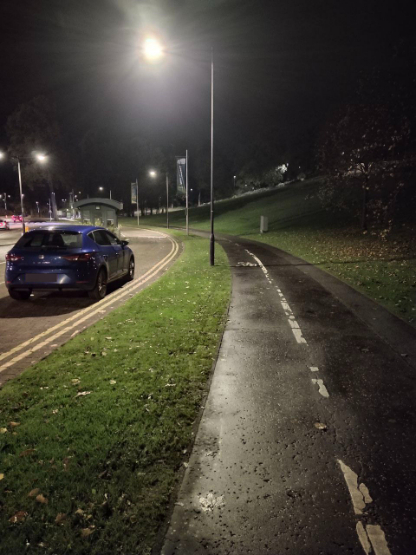car: (0, 218, 142, 310)
